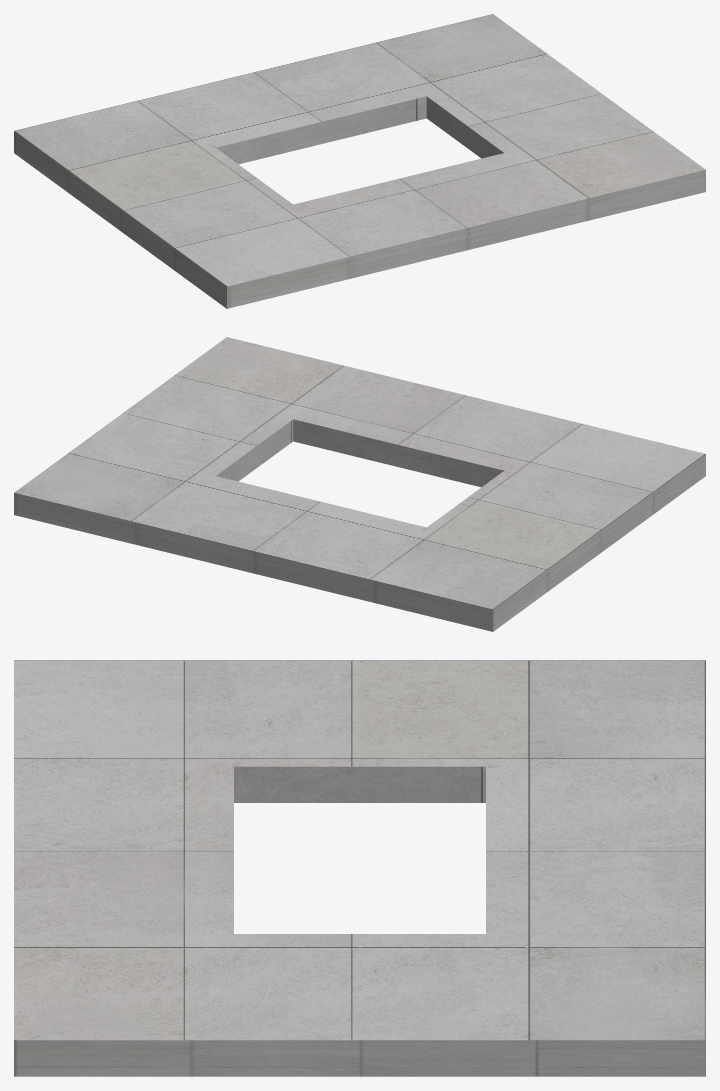
The model's file is pool_ground.glb.
3 renders of one model, top to bottom at view 1: azimuth 30°, elevation 25°; view 2: azimuth 150°, elevation 25°; view 3: azimuth 270°, elevation 25°, orthographic. The views are drawn at different scales.
Visible parts, largest first — view 1: 物体; view 2: 物体; view 3: 物体.
Part boxes in pixels (<box>): 物体: <box>14,14,705,308</box>; 物体: <box>14,337,705,631</box>; 物体: <box>14,660,705,1076</box>.
Bounding box in the file's own units: 9.69 × 0.4292 × 7.46.
1 material, 1 textured.
